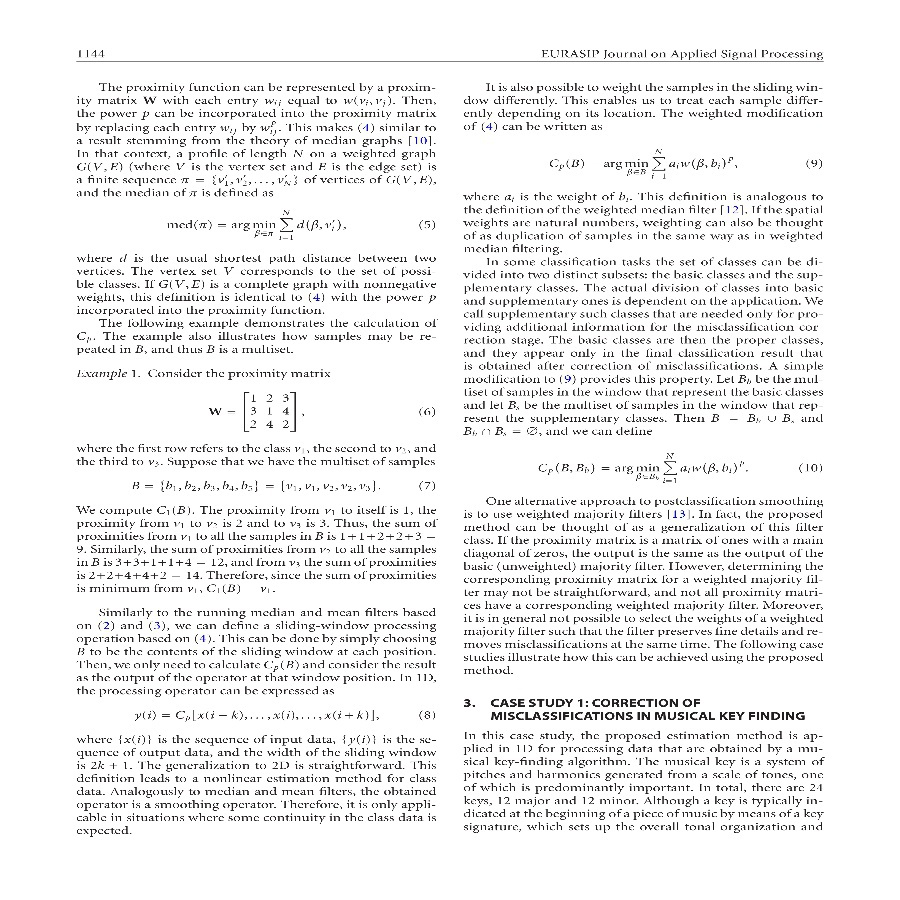eq: (536, 453, 745, 487), (546, 147, 733, 181), (166, 208, 340, 241), (130, 475, 376, 496), (133, 707, 376, 725), (207, 390, 301, 434)
